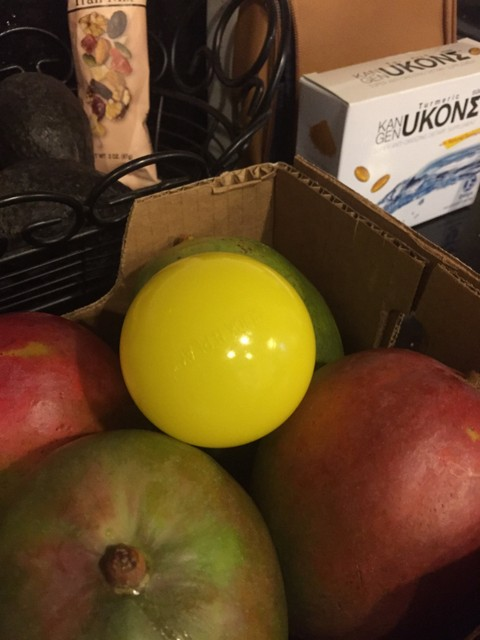ball: (118, 249, 318, 453)
